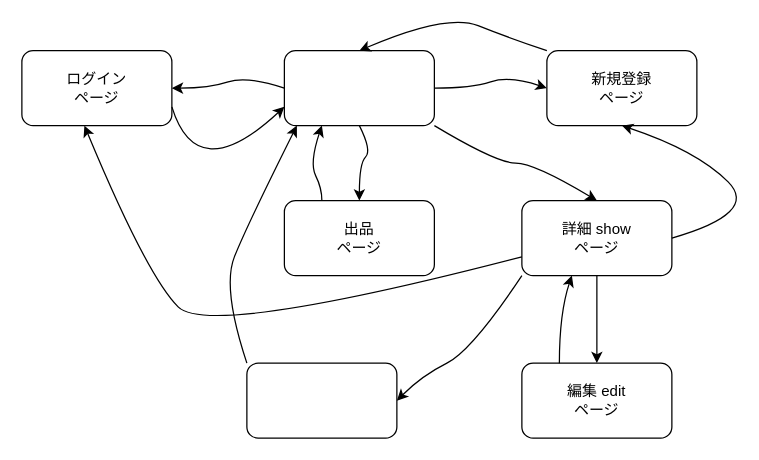
This 759x460 diagram has some shape labels left out. The box of each missing label's shape, as (x1, y1, x2, y2) in pixels:
Top index ページ: (283, 49, 434, 126)
購入 ページ: (246, 362, 397, 438)
